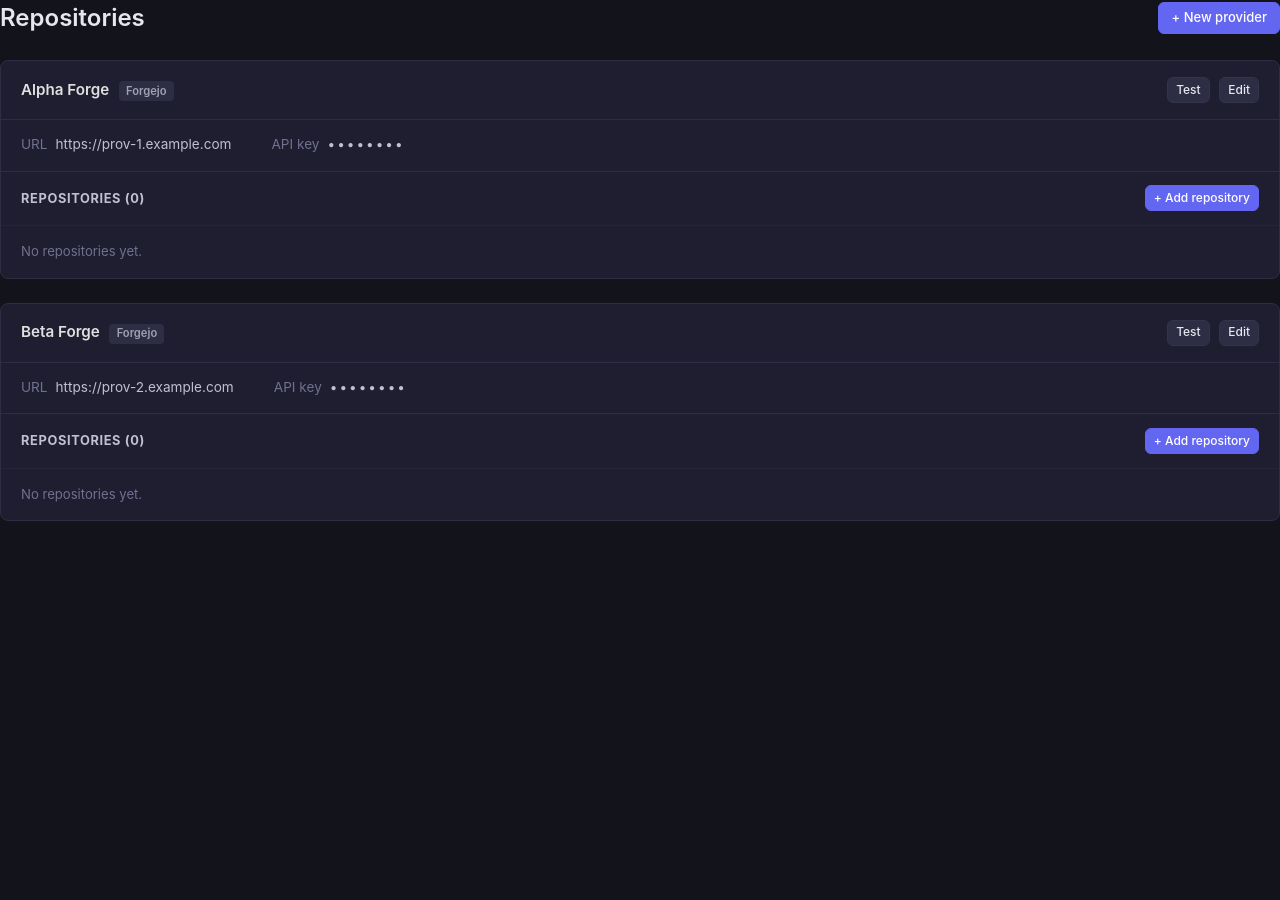
Test case: Repositories page — providers › Add repository opens the repository form with that provider chosen
Expected: the text "Beta Forge" is shown, [21,322,100,341]
Click the 2nd button "+ Add repository".
click(1202, 441)  # box [1145,428,1259,454]
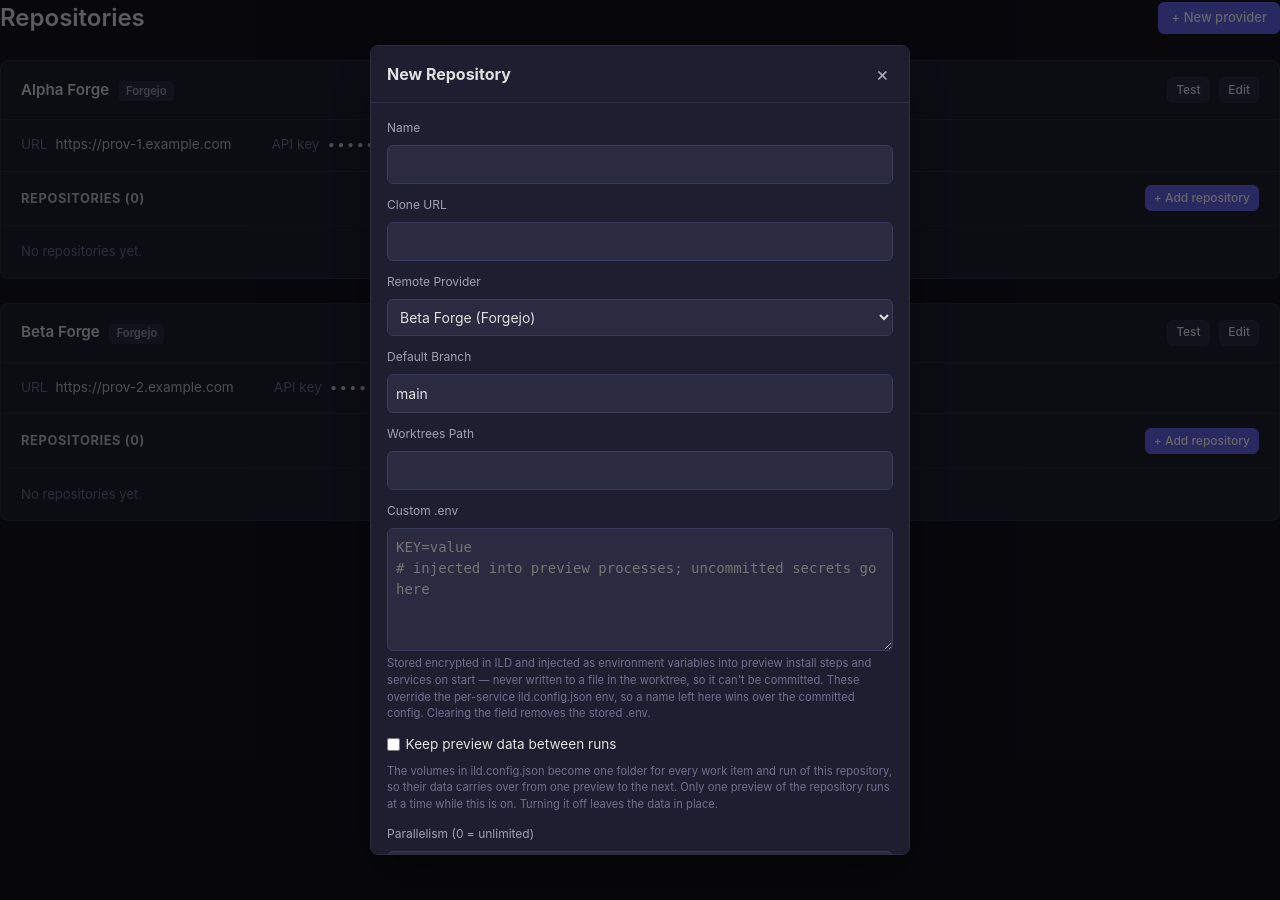
Now the heading "New Repository" is shown, box [387,62,511,86]
Now the dropdown labelled "Remote Provider" shows "Beta Forge (Forgejo)", box [387,299,893,336]
